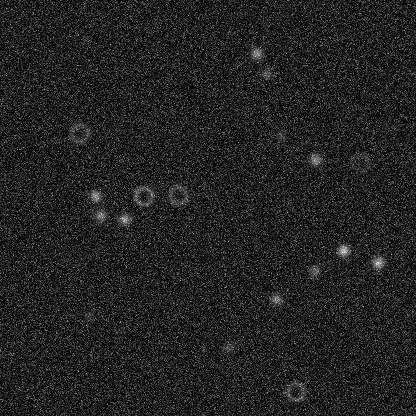Ring: (131, 184, 155, 208), (166, 183, 190, 207), (67, 120, 91, 144), (283, 379, 307, 403), (348, 150, 372, 174)
Spot: (258, 65, 274, 81), (81, 306, 97, 322), (220, 339, 236, 355), (92, 207, 108, 223), (267, 291, 283, 307), (272, 127, 288, 143), (335, 242, 351, 258), (305, 262, 321, 278), (369, 254, 385, 270), (116, 211, 132, 227), (248, 45, 264, 61), (307, 151, 323, 167), (87, 187, 103, 203)
